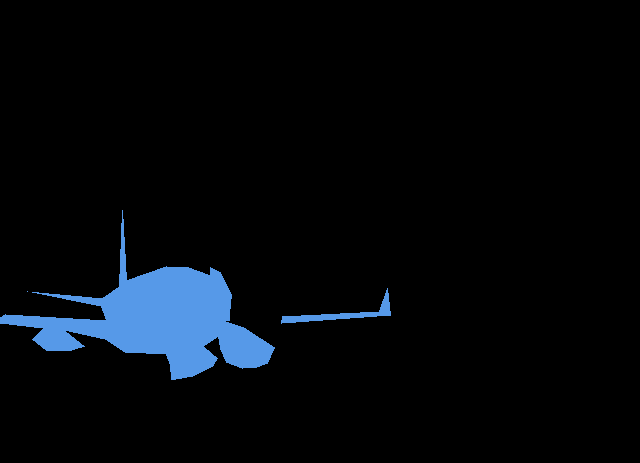Airplane: (0, 210, 390, 380)
